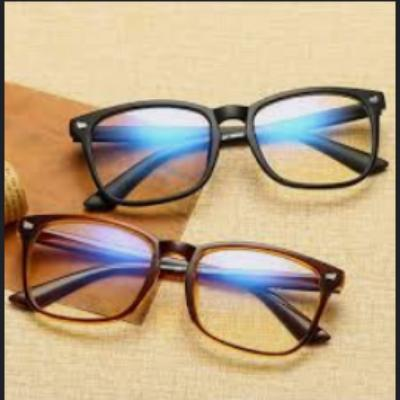glasses: (10, 206, 346, 362), (67, 85, 389, 214)
